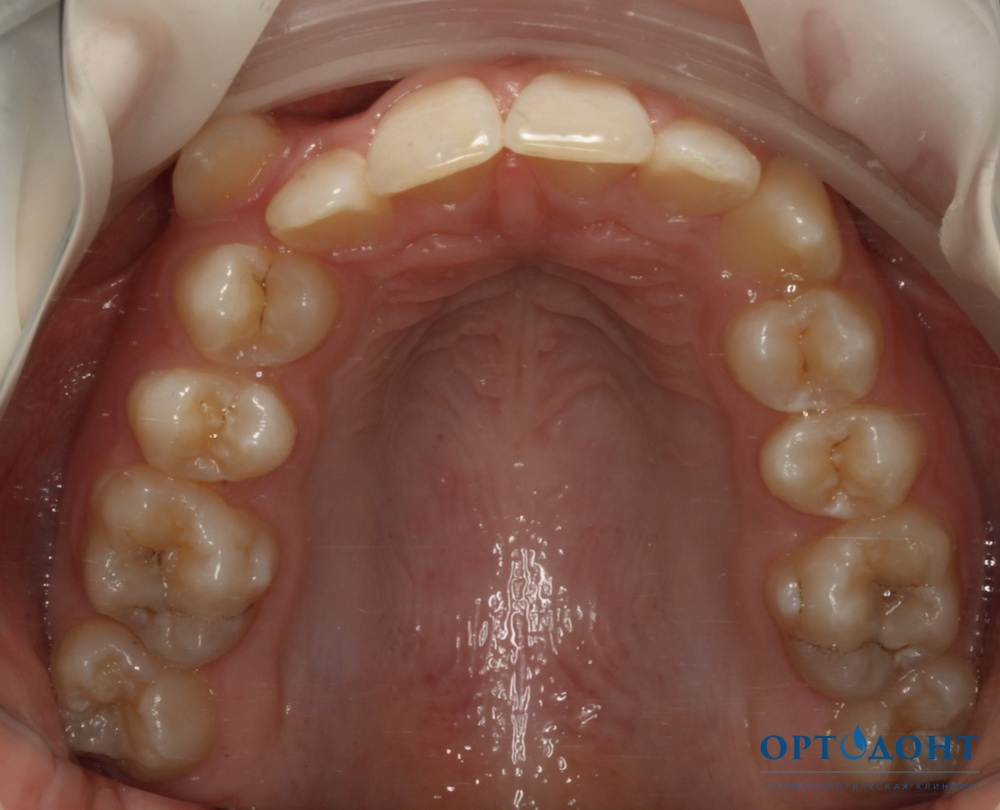UL1BC_decay: (724, 287, 876, 410)
UL1M_decay: (772, 509, 953, 705)
UL2BC_decay: (761, 412, 918, 516)
ULCI_healthy: (504, 96, 652, 202)
ULC_healthy: (717, 193, 837, 286)
ULLI_healthy: (644, 153, 754, 212)
UR1BC_decay: (122, 359, 297, 486)
UR1M_decay: (47, 628, 217, 779)
UR2BC_decay: (86, 464, 282, 674)
URCI_healthy: (367, 71, 502, 200)
URC_decay: (171, 240, 340, 370)
URLI_healthy: (262, 150, 394, 255)
